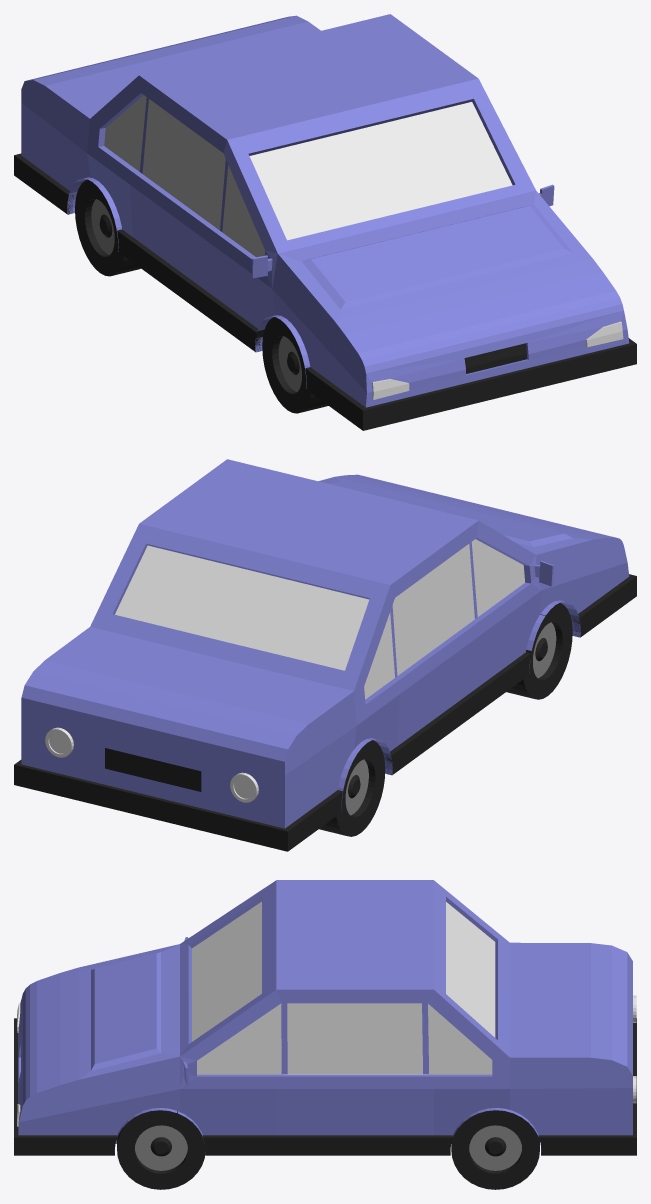
Rendered from car-3-with-moving-animation.fbx.
3 views of the same model, one above another, from view 1: azimuth 30°, elevation 25°; view 2: azimuth 150°, elevation 25°; view 3: azimuth 270°, elevation 25° (orthographic). The views are drawn at different scales.
Parts seen in each view (by area): view 1: Cube, Cylinder.002, Cylinder.003; view 2: Cube, Cylinder.003, Cylinder.002; view 3: Cube, Cylinder.005, Cylinder.004.
Boxes of the visible parts, x1,y1,x2,y2 form: Cube: [14, 14, 636, 430]; Cylinder.002: [262, 317, 328, 413]; Cylinder.003: [75, 179, 140, 276]; Cube: [14, 459, 636, 851]; Cylinder.003: [319, 740, 385, 836]; Cylinder.002: [506, 603, 572, 699]; Cube: [14, 880, 636, 1155]; Cylinder.005: [451, 1110, 539, 1189]; Cylinder.004: [117, 1110, 205, 1189].
Size of the model in its own units: 3718 by 2618 by 7465.
